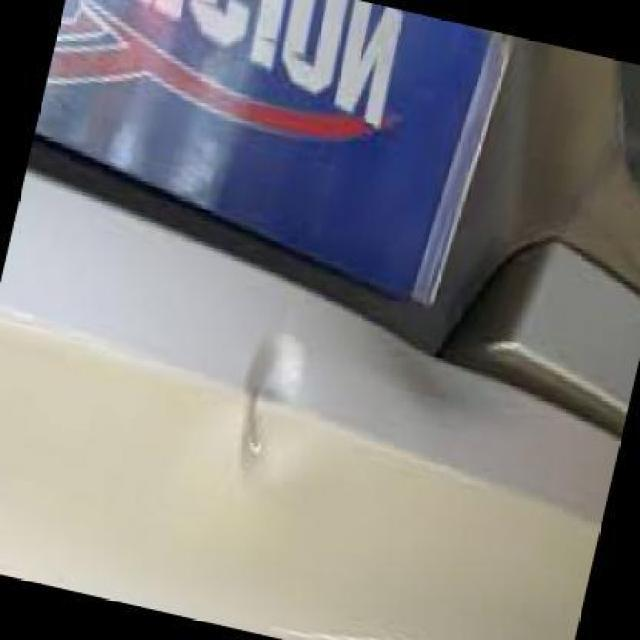dent: (235, 329, 311, 478)
